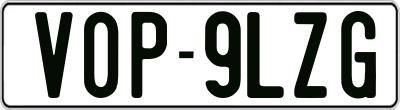0: (83, 10, 122, 100)
9: (203, 11, 243, 102)
G: (341, 11, 379, 101)
L: (244, 12, 286, 99)
P: (130, 10, 168, 96)
V: (35, 12, 73, 99)
Z: (293, 12, 329, 99)
